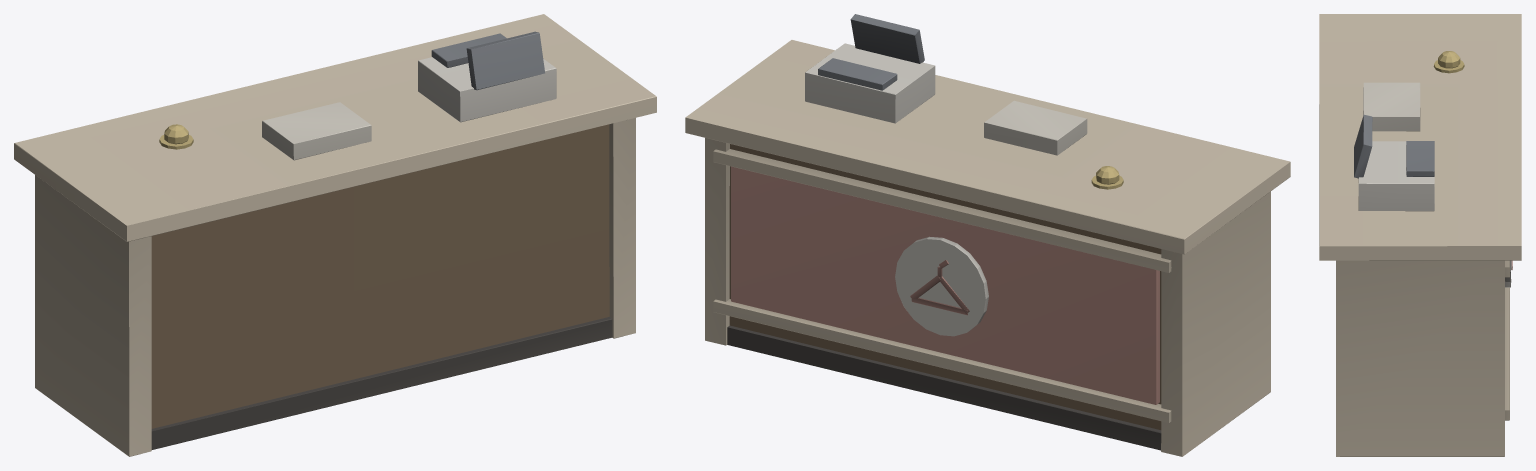
The model's file is mall_counter__f2_low.glb.
The picture shows the model from 3 angles, left to right: view 1: azimuth 30°, elevation 25°; view 2: azimuth 150°, elevation 25°; view 3: azimuth 270°, elevation 25°; orthographic projection. The views are drawn at different scales.
Visible parts, largest first — view 1: mall.counter__f2; view 2: mall.counter__f2; view 3: mall.counter__f2.
Part boxes in pixels (x1,y1,x2,y2): mall.counter__f2: [14, 14, 656, 456]; mall.counter__f2: [685, 14, 1290, 456]; mall.counter__f2: [1319, 14, 1521, 456].
Size of the model in its own units: 2.3 by 1.28 by 0.8484.
